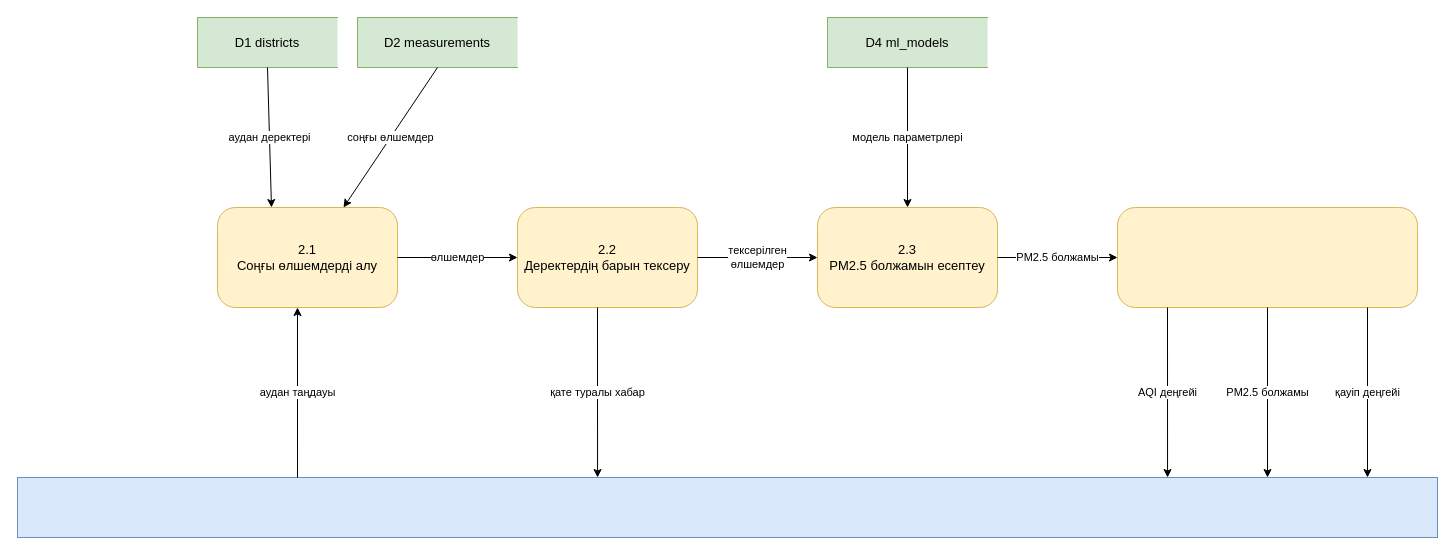
Some shapes in this 1455 by 555 pixel diagram are drawn without their labels. Each missing label, with the centre of its shape:
"2.4 AQI және қауіп деңгейін есептеу" belongs at pixel 1267 257.
"Қала тұрғыны" belongs at pixel 727 507.
